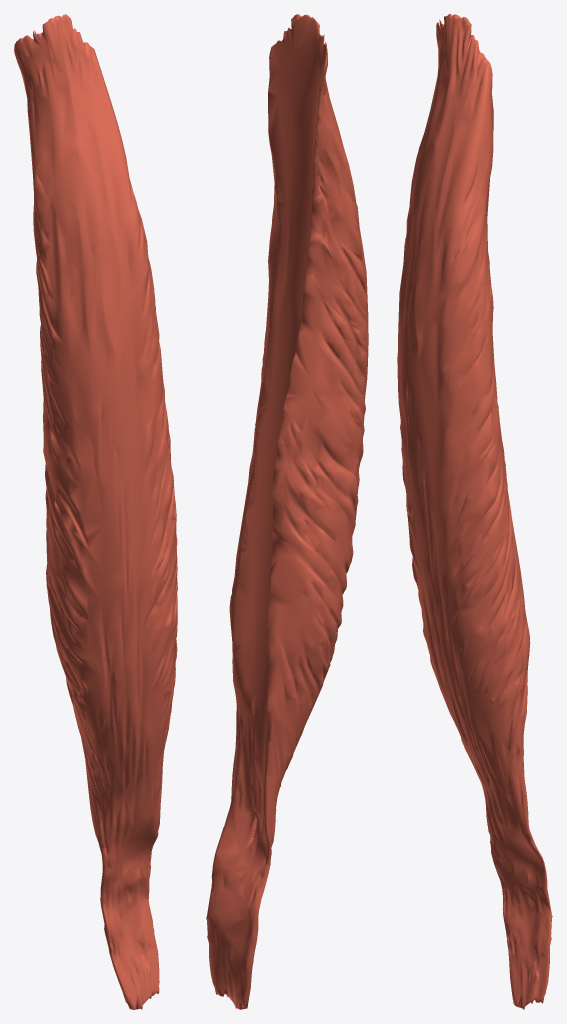
The model's file is vastus-intermedius.glb.
3 renders of one model, left to right at view 1: azimuth 30°, elevation 25°; view 2: azimuth 150°, elevation 25°; view 3: azimuth 330°, elevation 25°, orthographic. The views are drawn at different scales.
Parts seen in each view (by area): view 1: Vastus intermedius muscle.r; view 2: Vastus intermedius muscle.r; view 3: Vastus intermedius muscle.r.
Part boxes in pixels (x1,y1,x2,y2): Vastus intermedius muscle.r: (14,14,177,1009); Vastus intermedius muscle.r: (206,14,368,1009); Vastus intermedius muscle.r: (397,14,552,1009).
Bounding box in the file's own units: 0.0566 × 0.4085 × 0.0478.
